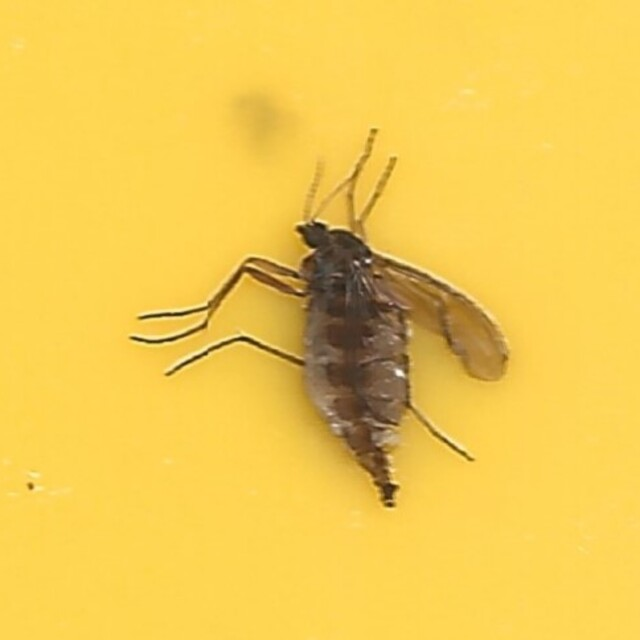Nematocera: (132, 127, 508, 513)
